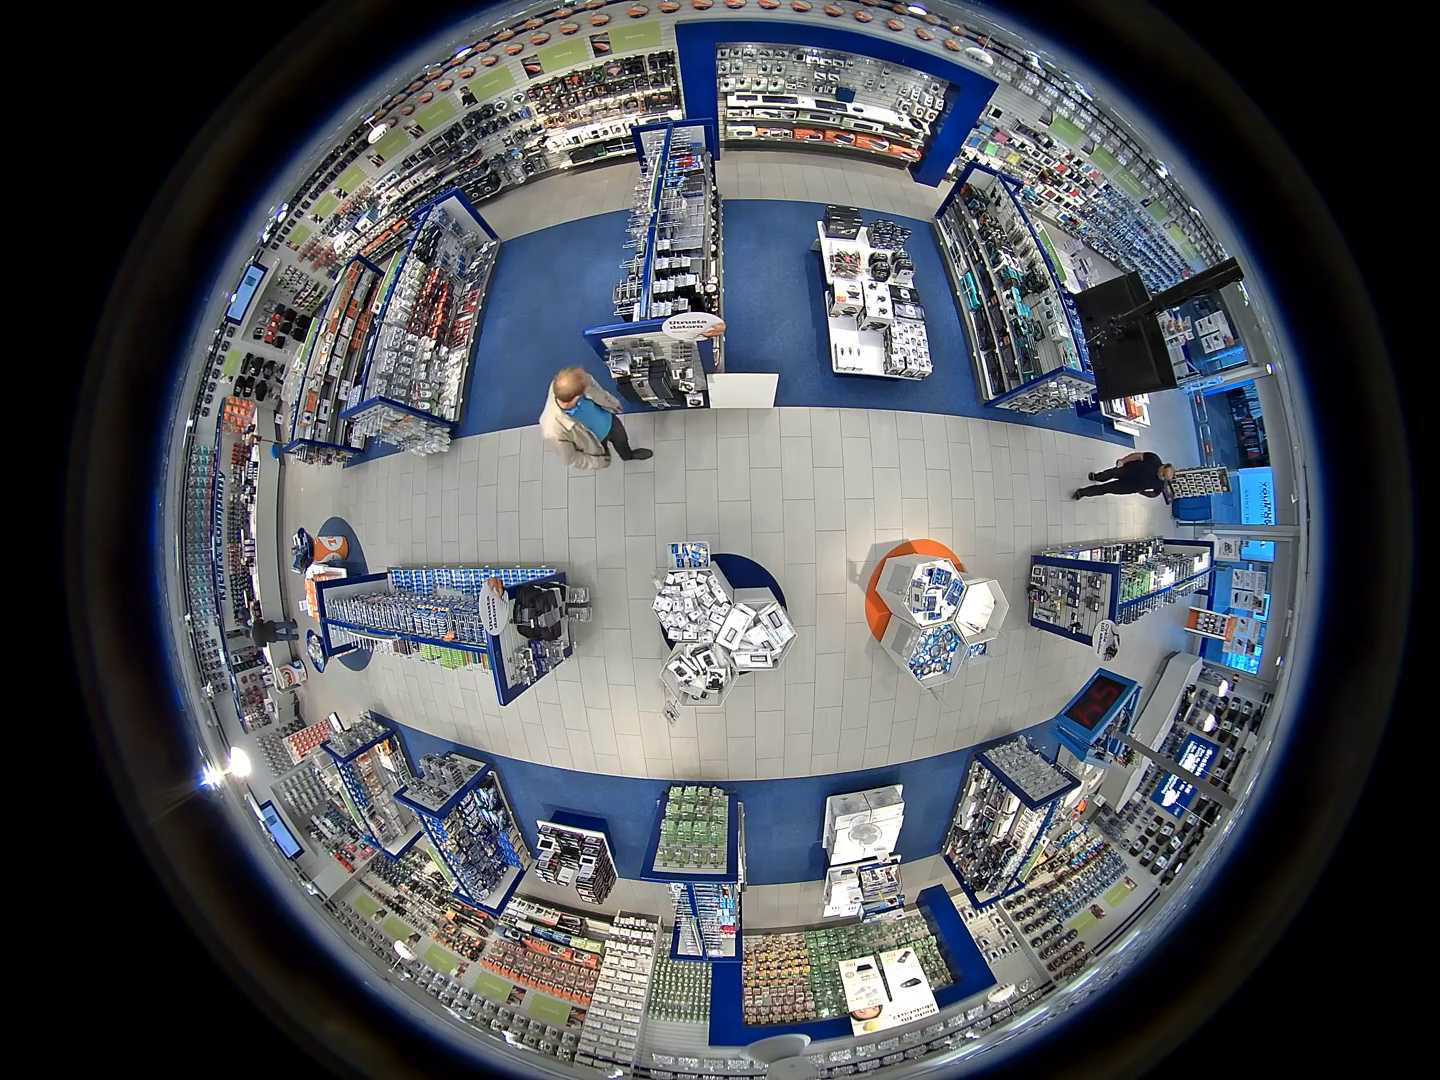person: (539, 364, 653, 471), (1071, 452, 1174, 501), (245, 618, 300, 648), (234, 607, 252, 627)
